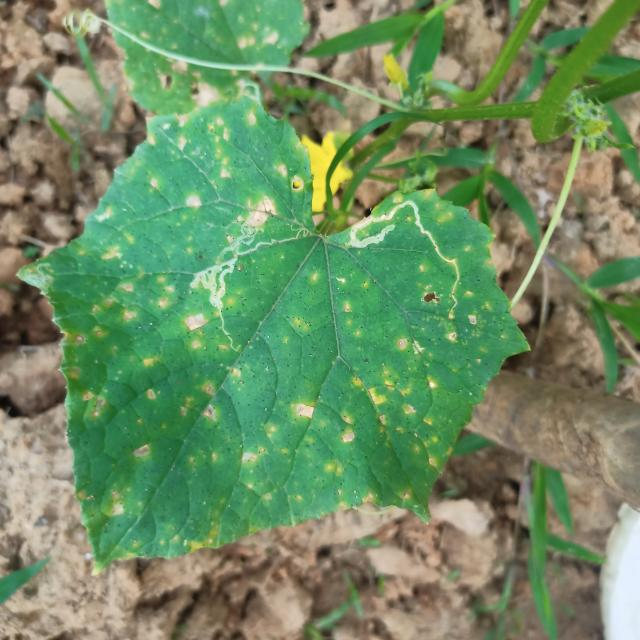disease_cucumber: (57, 113, 468, 542), (126, 0, 270, 136)
